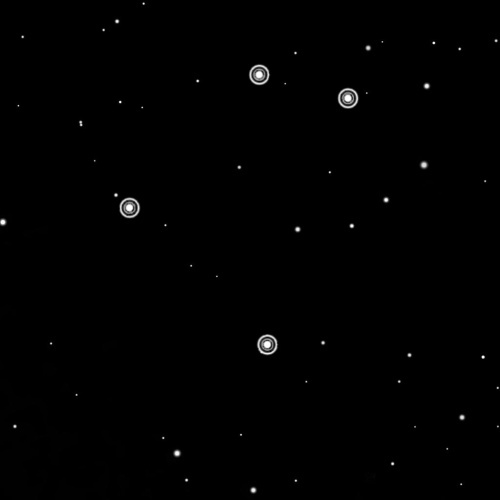coma_berenices: (113, 58, 370, 359)
